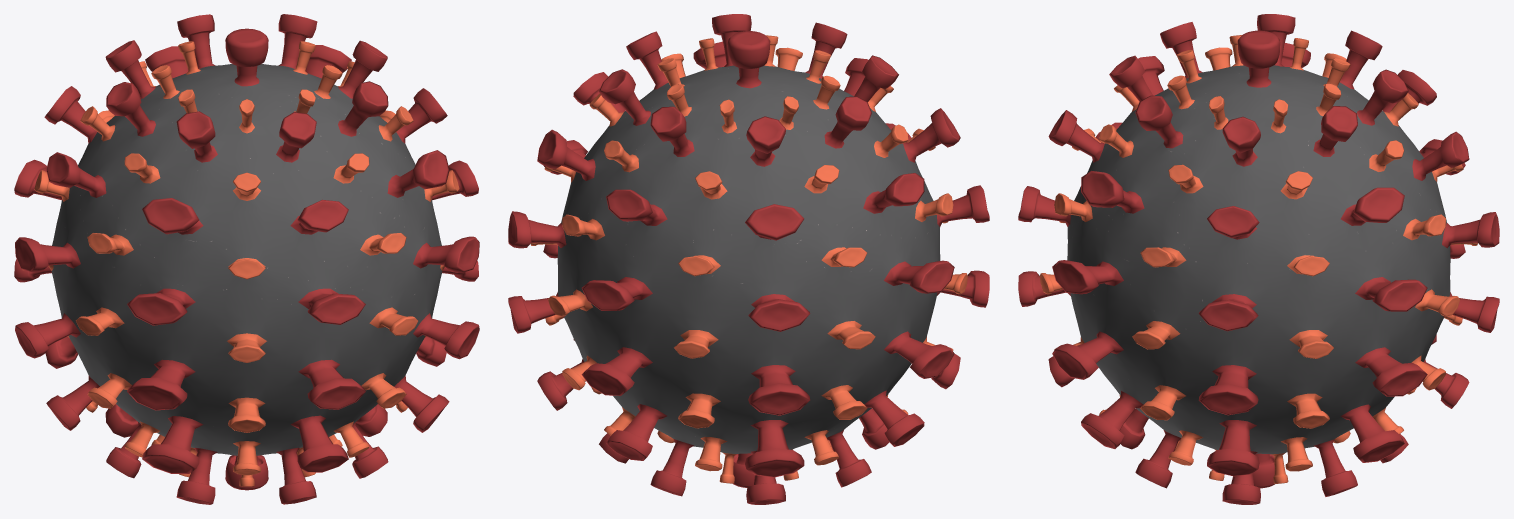
Rendered from COVID19Virus.fbx.
3 renders of one model, left to right at view 1: azimuth 30°, elevation 25°; view 2: azimuth 150°, elevation 25°; view 3: azimuth 270°, elevation 25°, orthographic.
Parts seen in each view (by area): view 1: COVID19Virus; view 2: COVID19Virus; view 3: COVID19Virus.
Boxes of the visible parts, <box> form: COVID19Virus: <box>14,14,479,504</box>; COVID19Virus: <box>508,14,989,504</box>; COVID19Virus: <box>1018,14,1499,504</box>.
Size of the model in its own units: 1.48 by 1.5 by 1.48.
Materials: 1 (1 with a texture image).
